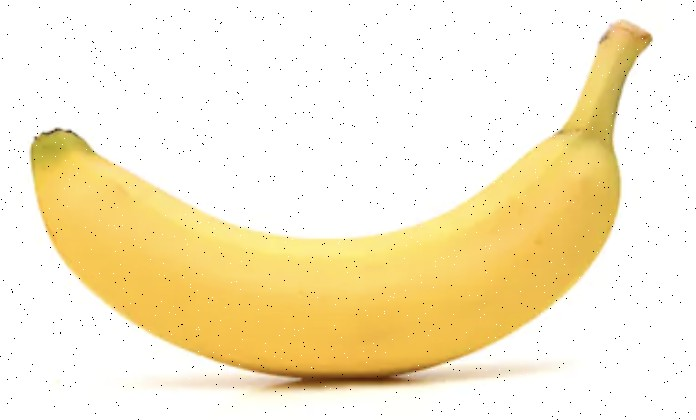fresh_banana: (31, 20, 654, 378)
